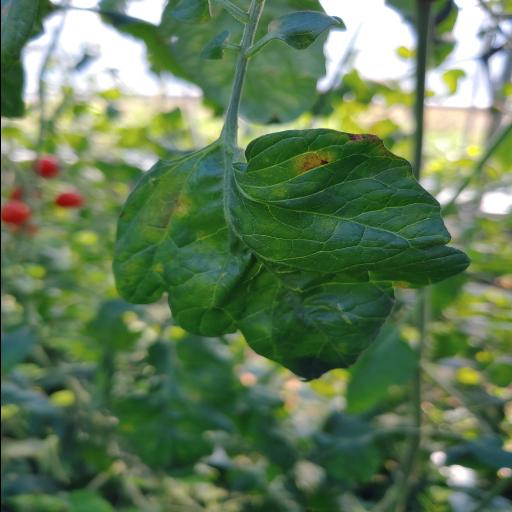Leaf Mold: (114, 130, 470, 382)
